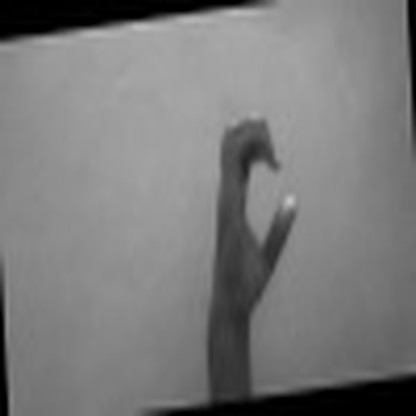c: (203, 108, 305, 306)
